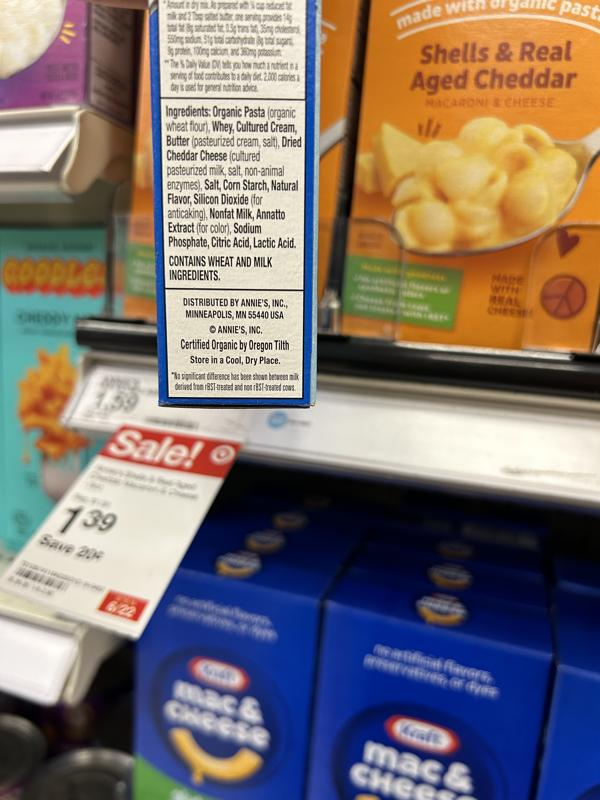ingredients: (163, 103, 302, 251)
